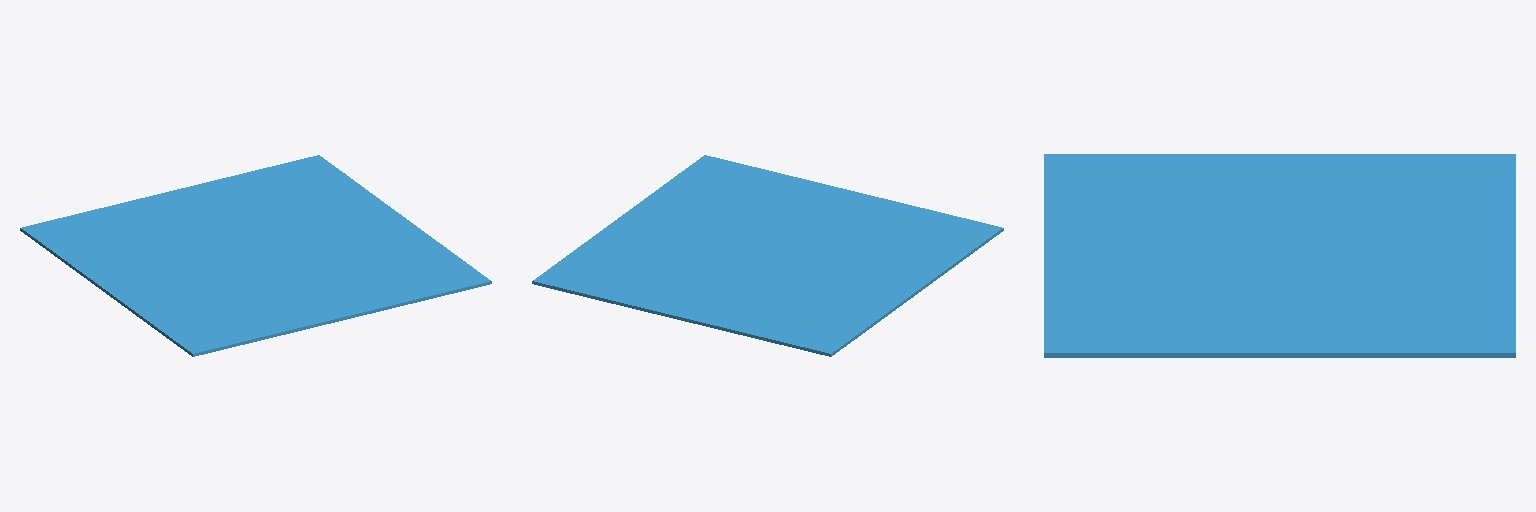
URDF robot description (xyz_flat_terrain):
<robot name="xyz_flat_terrain">

  <link name="world"/>


  <joint name="xyz_joint" type="planar">
    <origin xyz="0.0 0 1." rpy="0 0 0" />
    <parent link="world"/>
    <child link="base_link" />
    <axis xyz="0 0 1" />
  </joint>

  <!-- the model -->
  <link name="base_link">
    <inertial>
      <mass value="10" />
      <origin xyz="0 0 1." />
      <inertia ixx="5" ixy="0.0" ixz="0.0"
        iyy="5" iyz="0.0"
        izz="10" /> <!--Ixx = 1/12/m*(y^2+z^2)-->
    </inertial>
    <visual>
      <origin xyz="0 0 1." />
      <geometry>
        <box size="10 10 0.1" />
      </geometry>
    </visual>
    <collision>
      <origin xyz="0 0 1." />
      <geometry>
        <box size="10 10 0.1" />
      </geometry>
      <surface>
        <friction>
          <ode>
            <mu>0.6</mu>
            <mu2>0.6</mu2>
          </ode>
        </friction>
      </surface>
    </collision>
  </link>

<gazebo reference="base_link">
    <material>simple_terrain</material>
</gazebo>


</robot>

--- Facts derived from the render (not from the file) ---
3 views of the same robot in one strip: view 1: azimuth 30°, elevation 25°; view 2: azimuth 150°, elevation 25°; view 3: azimuth 270°, elevation 25° (orthographic).
Model xyz_flat_terrain with 2 links and 1 joints (1 planar), rooted at world, posed all joints at 0.
Visible links, largest first — view 1: base_link; view 2: base_link; view 3: base_link.
Link boxes in pixels (x1,y1,x2,y2): base_link: (20, 155, 491, 356); base_link: (532, 155, 1003, 356); base_link: (1044, 154, 1515, 357).
Size in the robot's own frame: 10 by 10 by 0.1 metres.
Geometry: primitives only (box / cylinder / sphere), no mesh files.